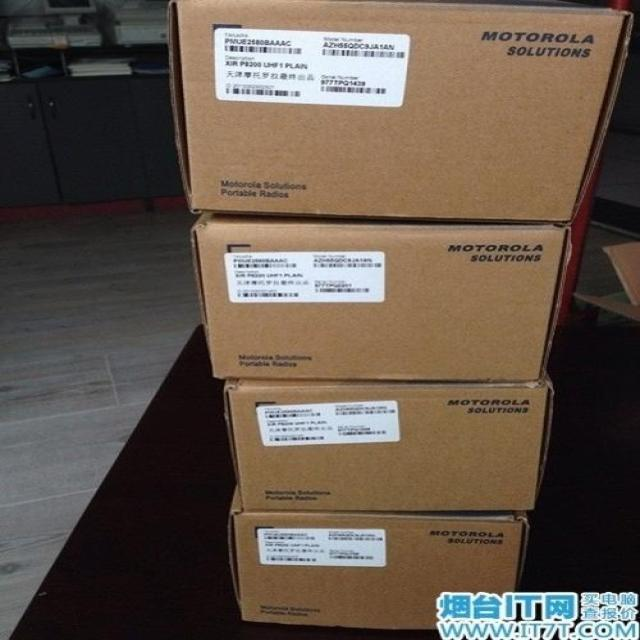box: (168, 0, 634, 226), (191, 210, 576, 382), (223, 372, 556, 512), (227, 484, 530, 630)
